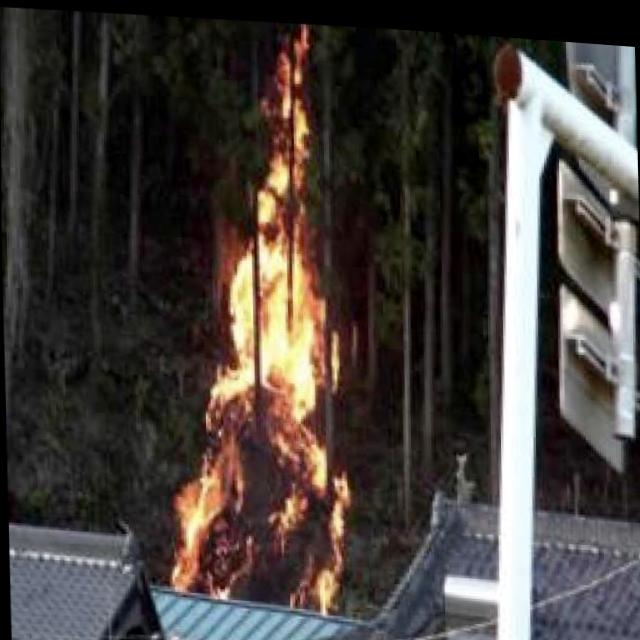helmet: (164, 17, 349, 609)
